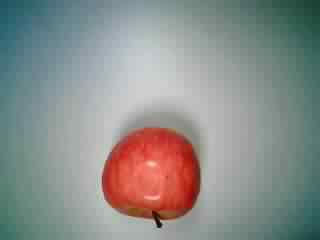apple: (101, 121, 205, 225)
